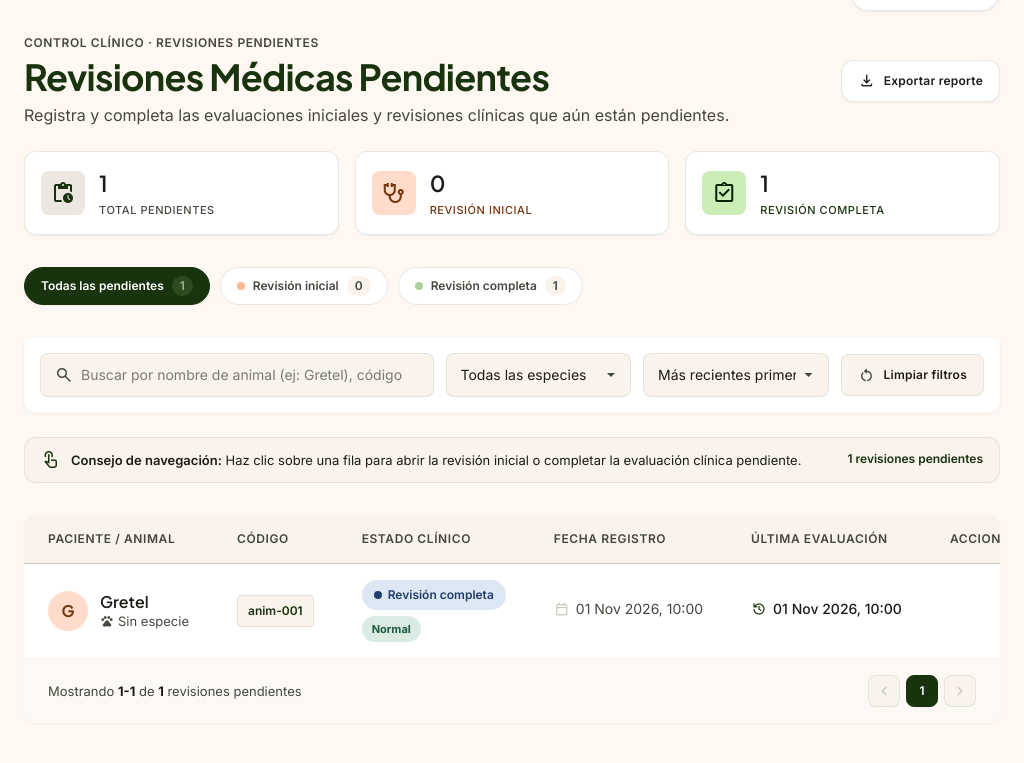
RegistroMedicoPage › limpia el detalle al cambiar de píldora
(page scrolled)
Click the button with aria-label "Ver ficha médica de Gretel anim-001" at coordinates (68, 611), box [24,563,1023,658]
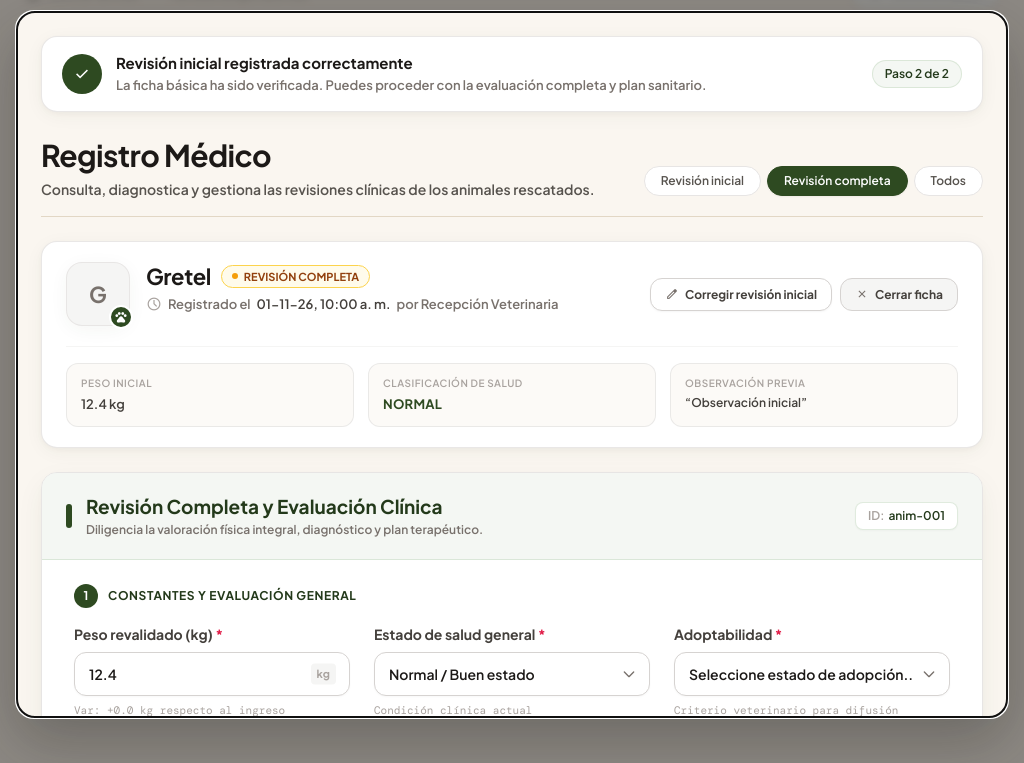
Click the tab "Todos" at coordinates (948, 181), box [914,166,983,196]
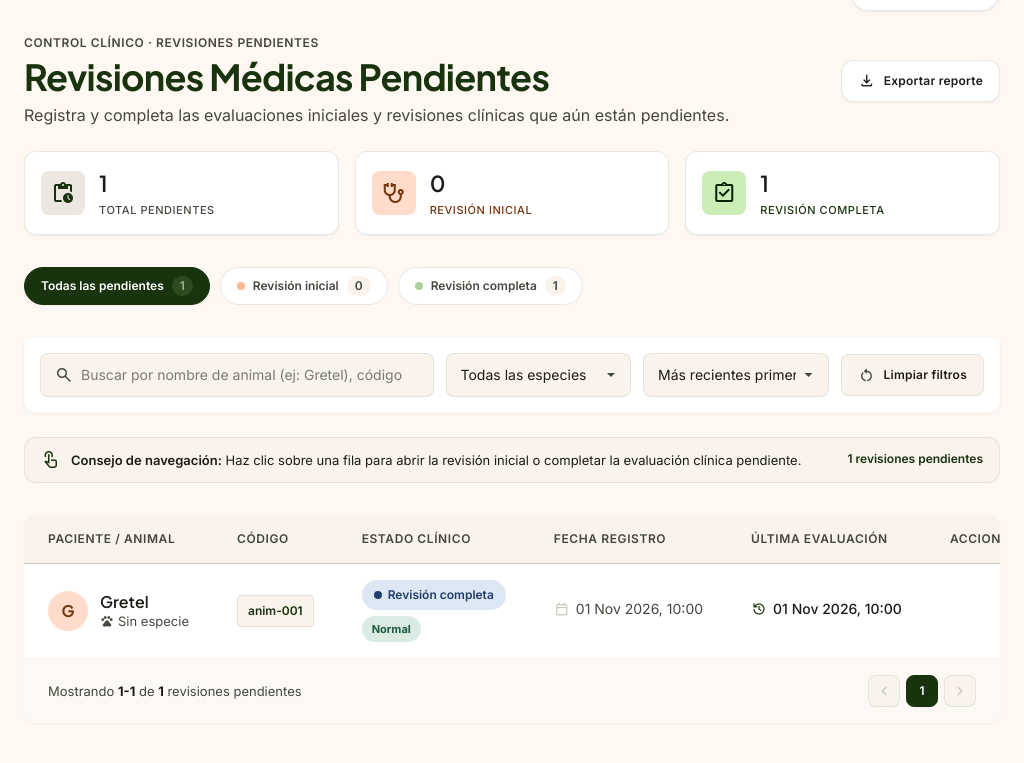
Result: the dialog is gone
